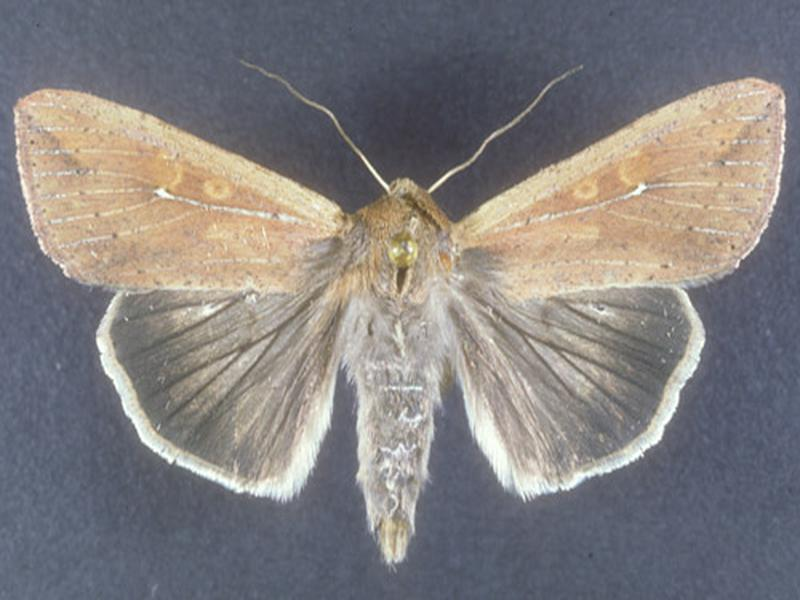Rice_case_worm: (94, 142, 684, 514)
